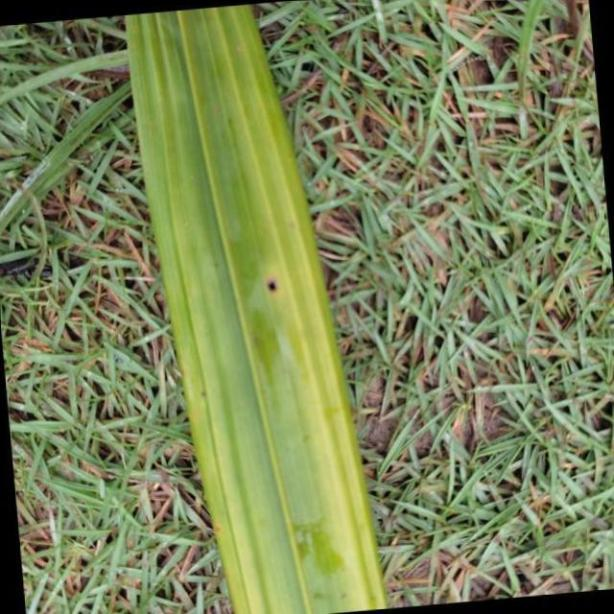nitrogen: (128, 5, 388, 614)
